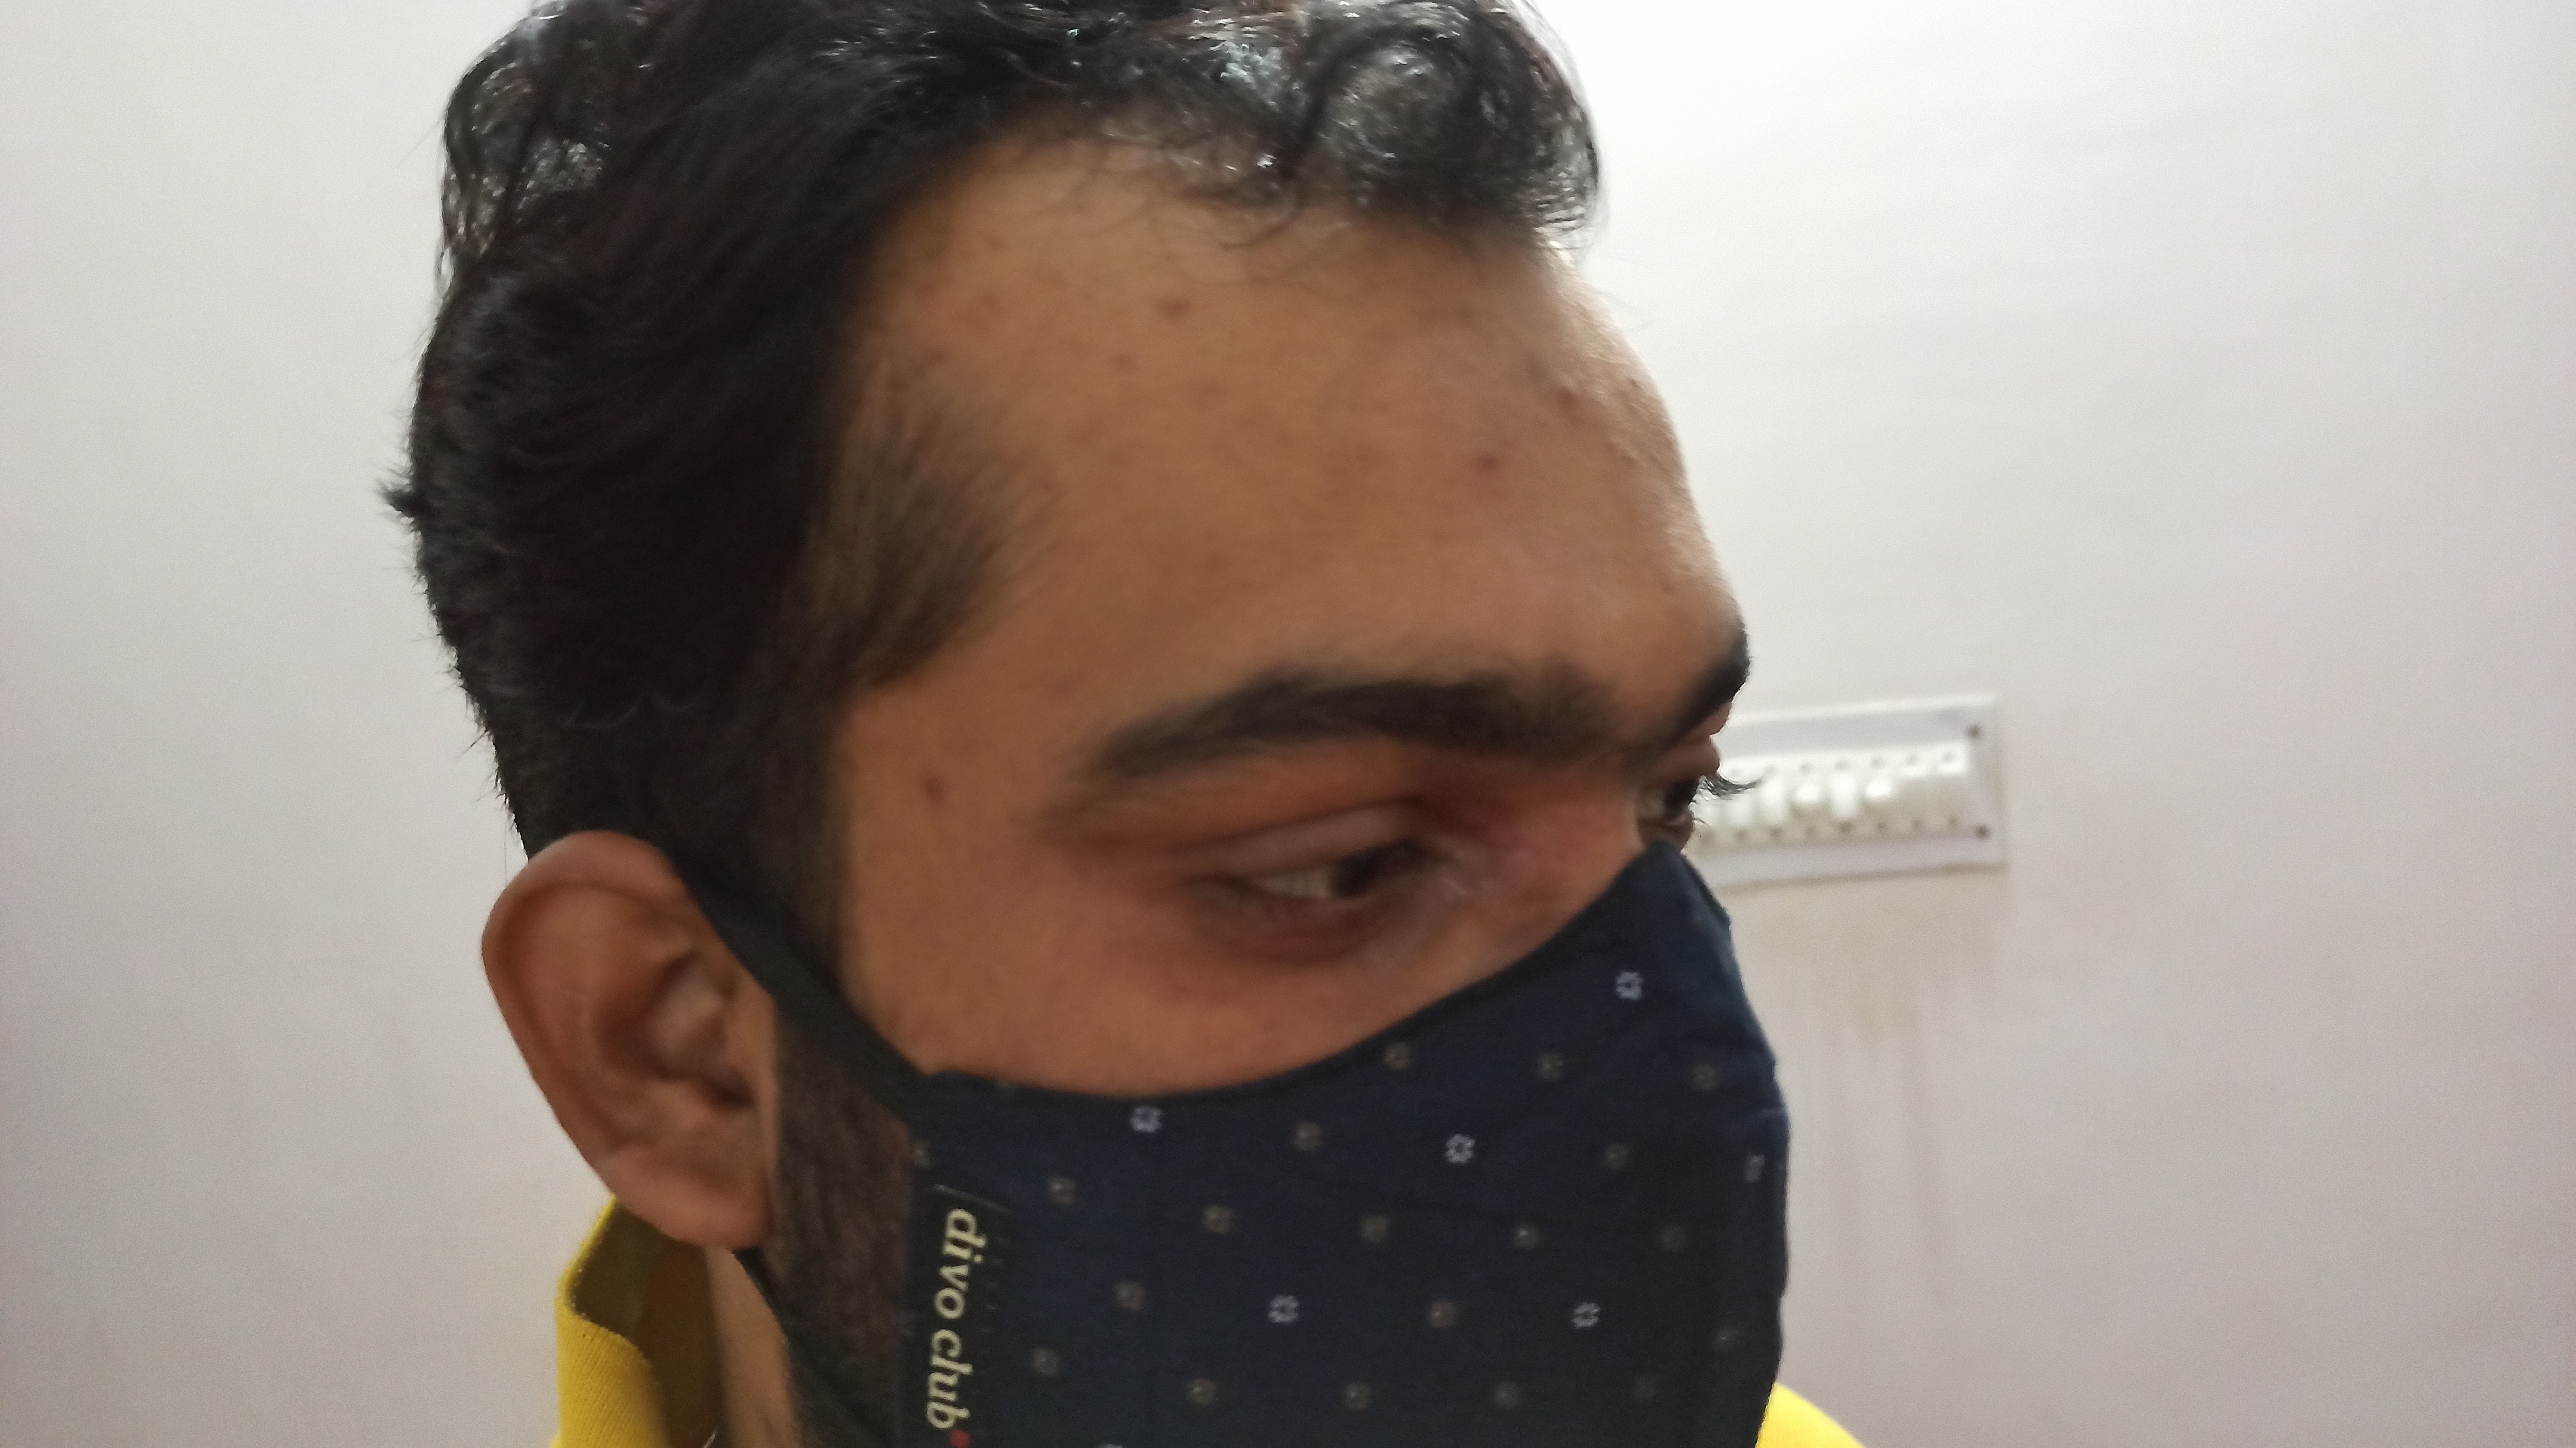Mask: (511, 836, 1835, 1448)
